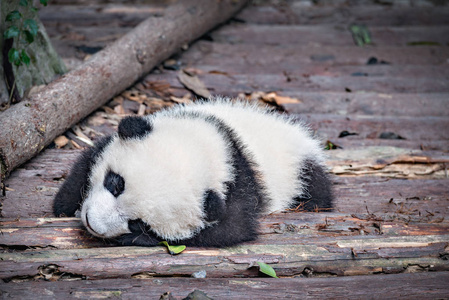panda: (44, 90, 342, 243)
